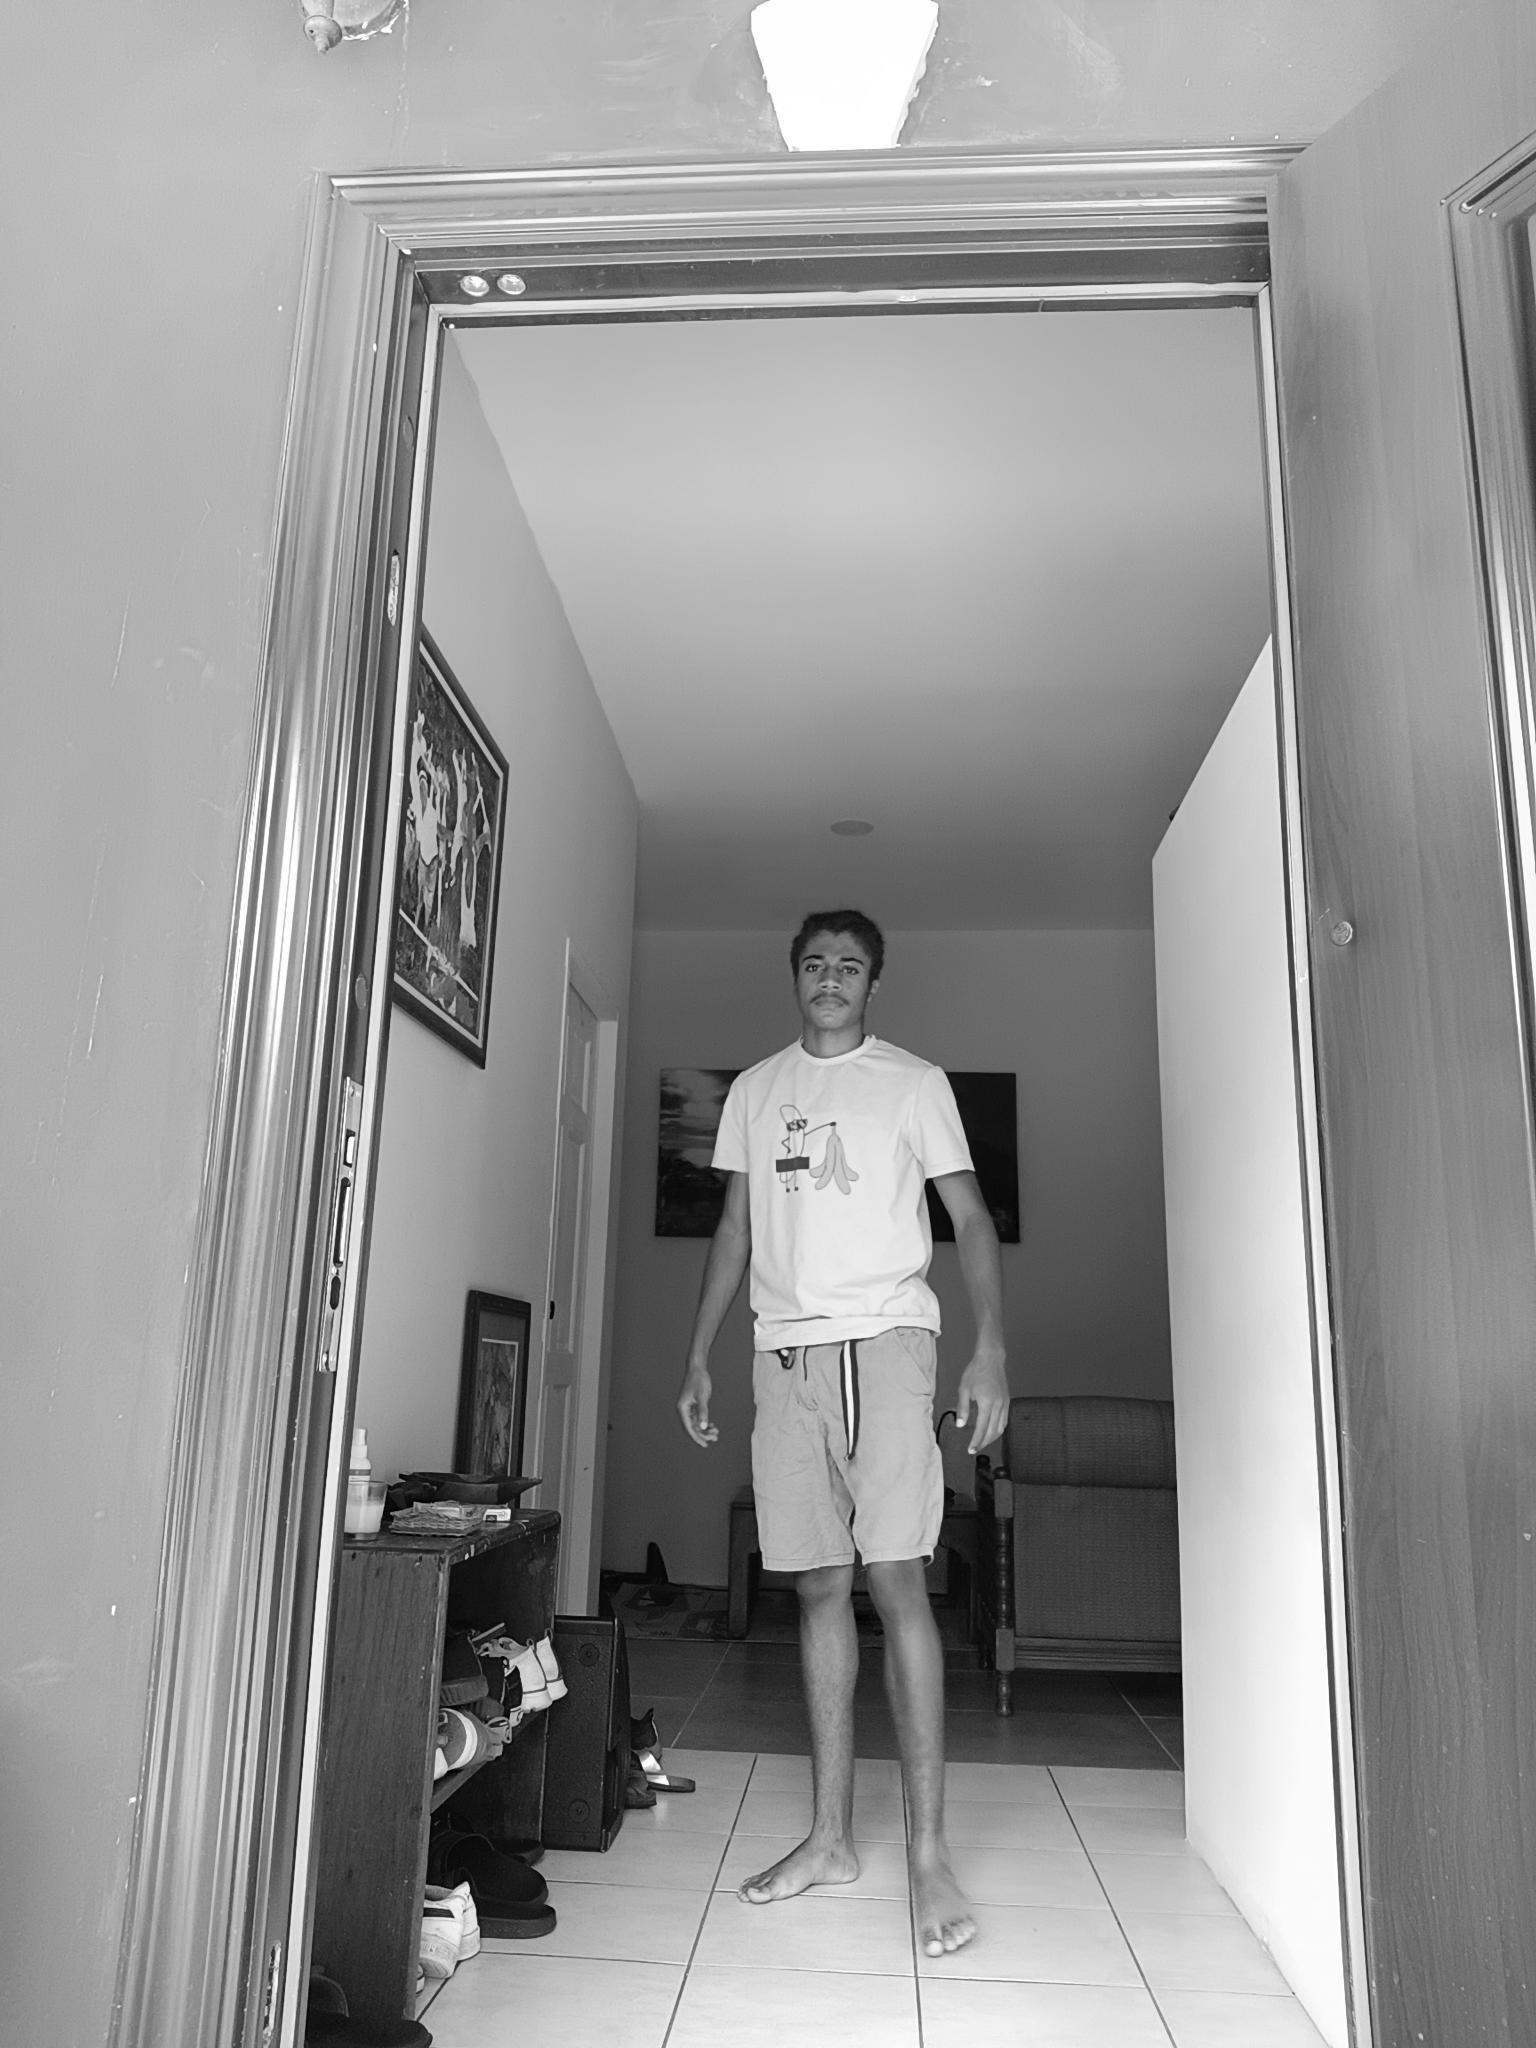front: (671, 903, 1016, 1959)
